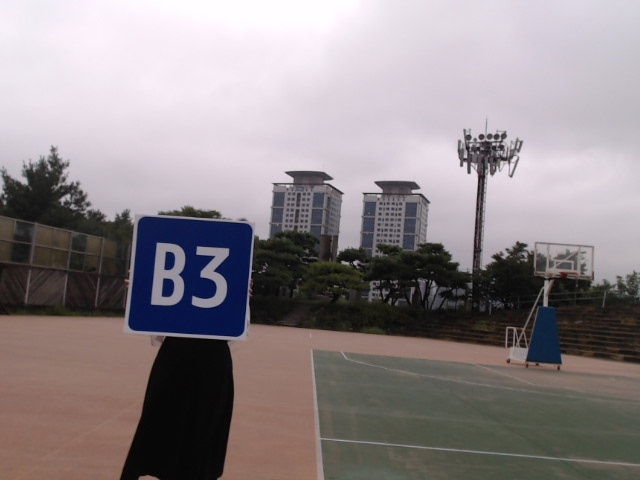delivery_b3: (127, 213, 252, 338)
